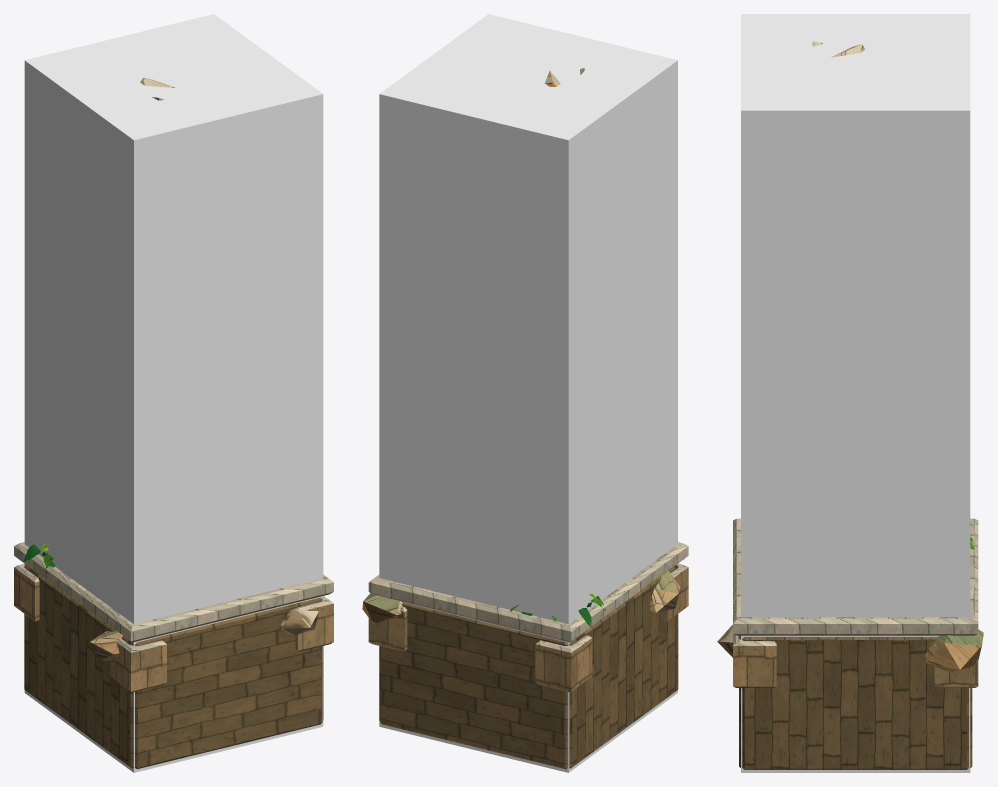
File: ruin_pillar.glb
3 renders of one model, left to right at view 1: azimuth 30°, elevation 25°; view 2: azimuth 150°, elevation 25°; view 3: azimuth 270°, elevation 25°, orthographic. The views are drawn at different scales.
Parts seen in each view (by area): view 1: col_pillar, RuinPillar; view 2: col_pillar, RuinPillar; view 3: col_pillar, RuinPillar.
Boxes of the visible parts, bbox=[...] form: col_pillar: bbox=[24, 14, 323, 772]; RuinPillar: bbox=[14, 77, 333, 768]; col_pillar: bbox=[379, 14, 677, 772]; RuinPillar: bbox=[362, 68, 688, 769]; col_pillar: bbox=[741, 14, 970, 772]; RuinPillar: bbox=[717, 41, 983, 769].
Size of the model in its own units: 2.46 by 6.42 by 2.33.
Materials: 5 (4 with a texture image).
